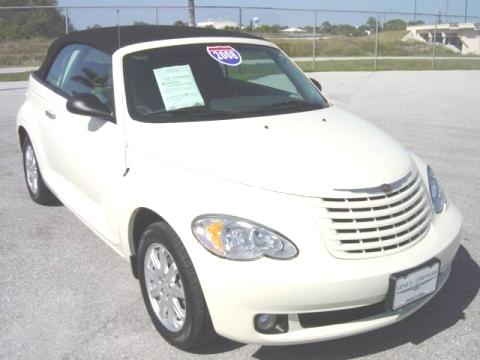Mitsubishi: (327, 170, 424, 201)
